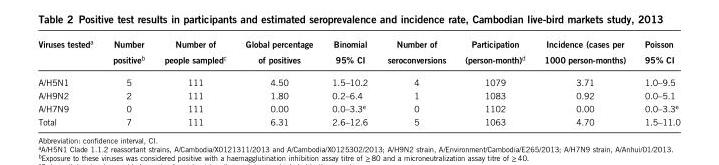table: (37, 37, 679, 126)
table column: (534, 37, 634, 126), (235, 37, 321, 126), (153, 37, 235, 126), (454, 37, 534, 126), (376, 37, 454, 126), (37, 37, 102, 126), (321, 37, 376, 126), (102, 37, 153, 126), (634, 37, 679, 126)
table column header: (37, 37, 679, 70)
table row: (37, 37, 679, 70), (37, 70, 679, 88), (37, 88, 679, 101), (37, 101, 679, 114), (37, 114, 679, 126)
